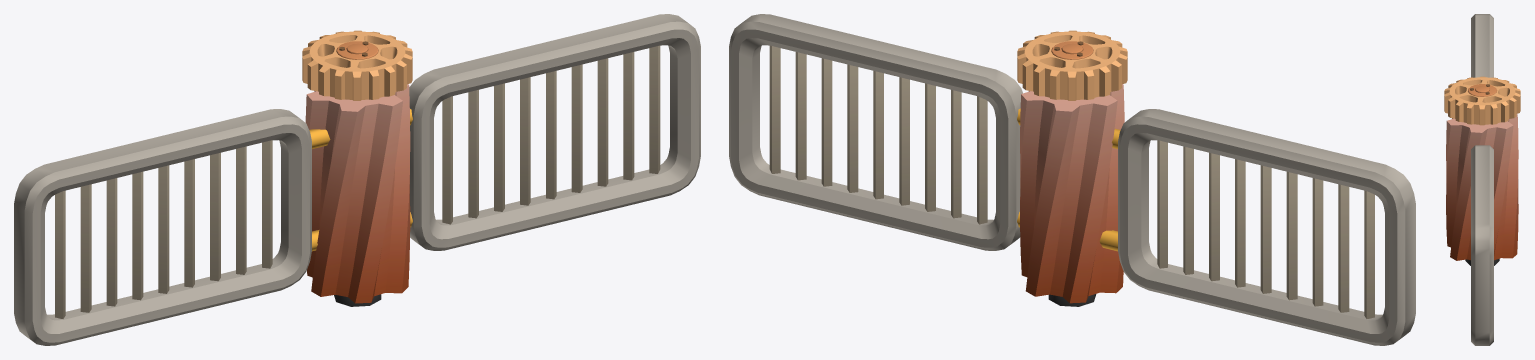
File: obstacle_20_001.fbx
The picture shows the model from 3 angles, left to right: view 1: azimuth 30°, elevation 25°; view 2: azimuth 150°, elevation 25°; view 3: azimuth 270°, elevation 25°; orthographic projection. The views are drawn at different scales.
Parts seen in each view (by area): view 1: obstacle_20_001; view 2: obstacle_20_001; view 3: obstacle_20_001.
Boxes of the visible parts, x1=… form: obstacle_20_001: x1=14, y1=14, x2=700, y2=345; obstacle_20_001: x1=729, y1=14, x2=1415, y2=345; obstacle_20_001: x1=1444, y1=14, x2=1520, y2=345.
Bounding box in the file's own units: 549 × 77.64 × 193.
